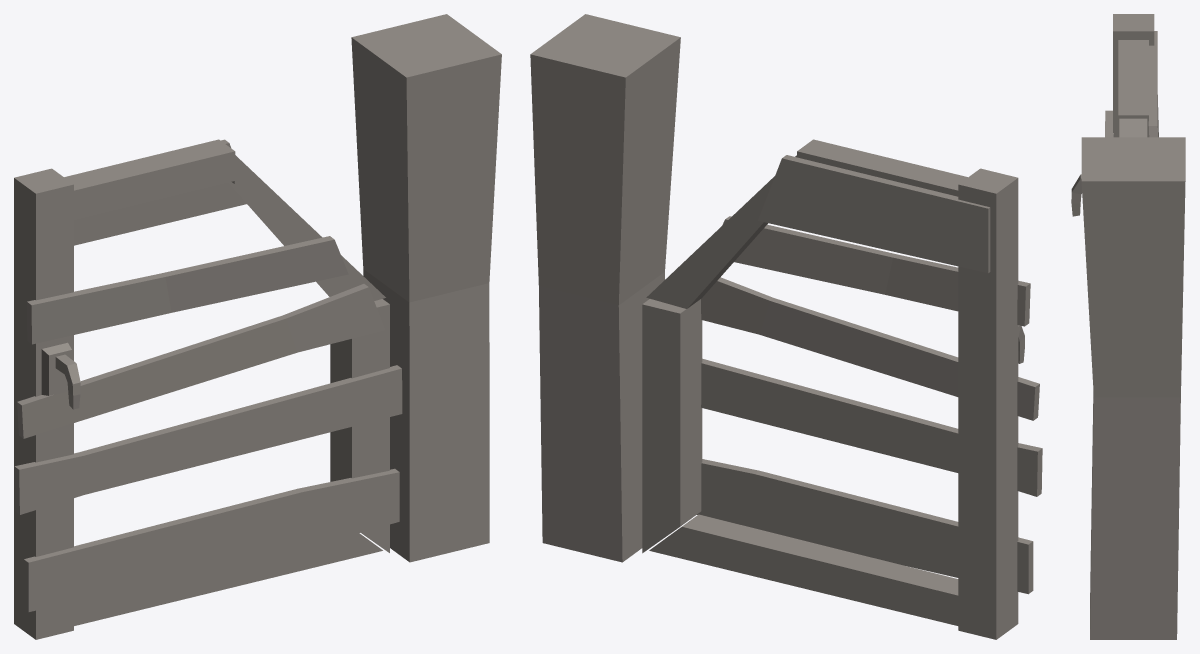
Rendered from Entrance Door .fbx.
The picture shows the model from 3 angles, left to right: view 1: azimuth 30°, elevation 25°; view 2: azimuth 150°, elevation 25°; view 3: azimuth 270°, elevation 25°; orthographic projection. The views are drawn at different scales.
Visible parts, largest first — view 1: Door, Entrance Door; view 2: Door, Entrance Door; view 3: Entrance Door, Door.
Boxes of the visible parts, bbox=[...] form: Door: bbox=[14, 139, 402, 639]; Entrance Door: bbox=[351, 14, 501, 562]; Door: bbox=[642, 139, 1042, 639]; Entrance Door: bbox=[530, 14, 680, 562]; Entrance Door: bbox=[1081, 137, 1185, 639]; Door: bbox=[1071, 14, 1158, 216].
Size of the model in its own units: 229 by 228 by 50.92.
